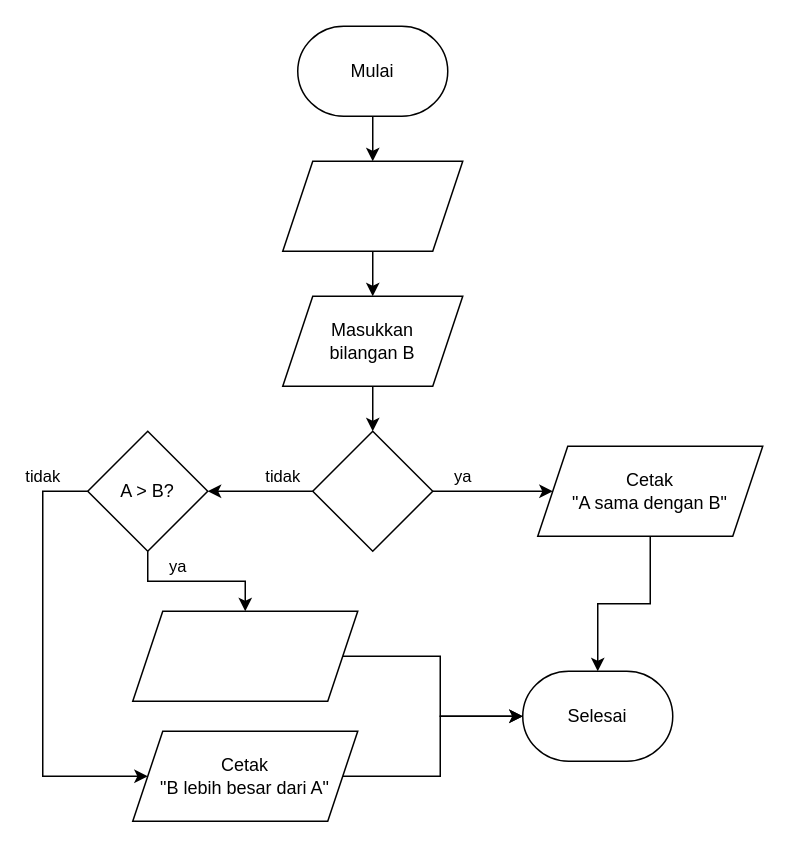
The diagram is 789 pixels wide and 848 high, and some of its shapes have lost their labels. The centre of each missing label's shape, as x and y in pixels:
A == B?: point (372, 490)
Cetak "A lebih besar dari B": point (244, 655)
Masukkan bilangan A: point (372, 205)
